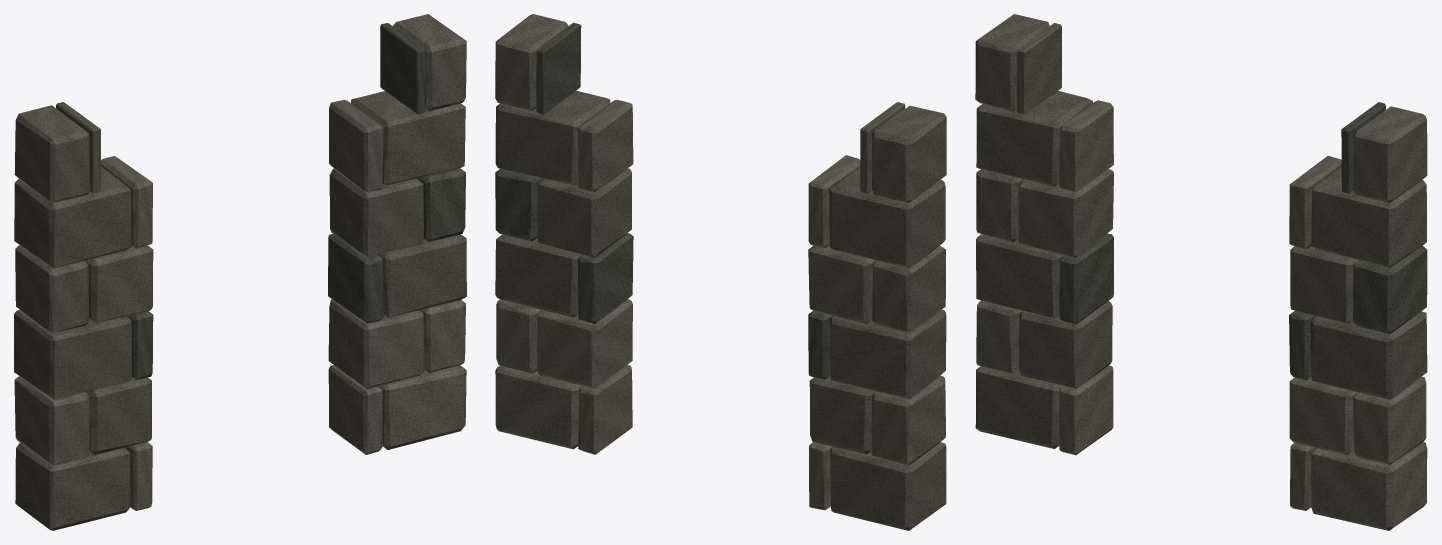
The model's file is env_ruin_walls_06_open_breach.glb.
3 views of the same model, side by side, from view 1: azimuth 30°, elevation 25°; view 2: azimuth 150°, elevation 25°; view 3: azimuth 330°, elevation 25° (orthographic).
Bounding box in the file's own units: 1.99 × 1.79 × 0.3244.
Materials: 1 (1 with a texture image).
